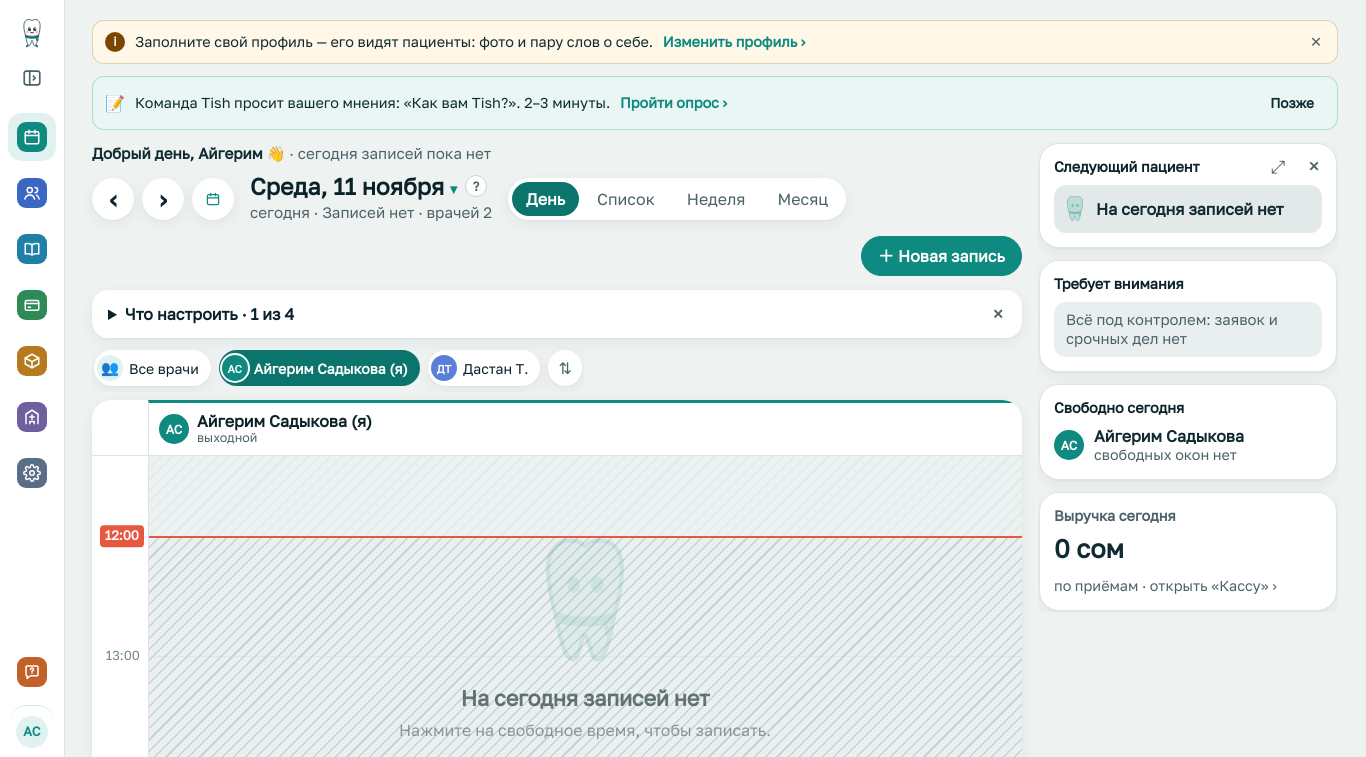
Test: приглашение над «Расписанием»: «Позже» прячет его, нажатие ведёт в опрос
(page scrolled)
Step 1. Click the button "Позже" → [1292, 103], box [1253,83,1331,123]
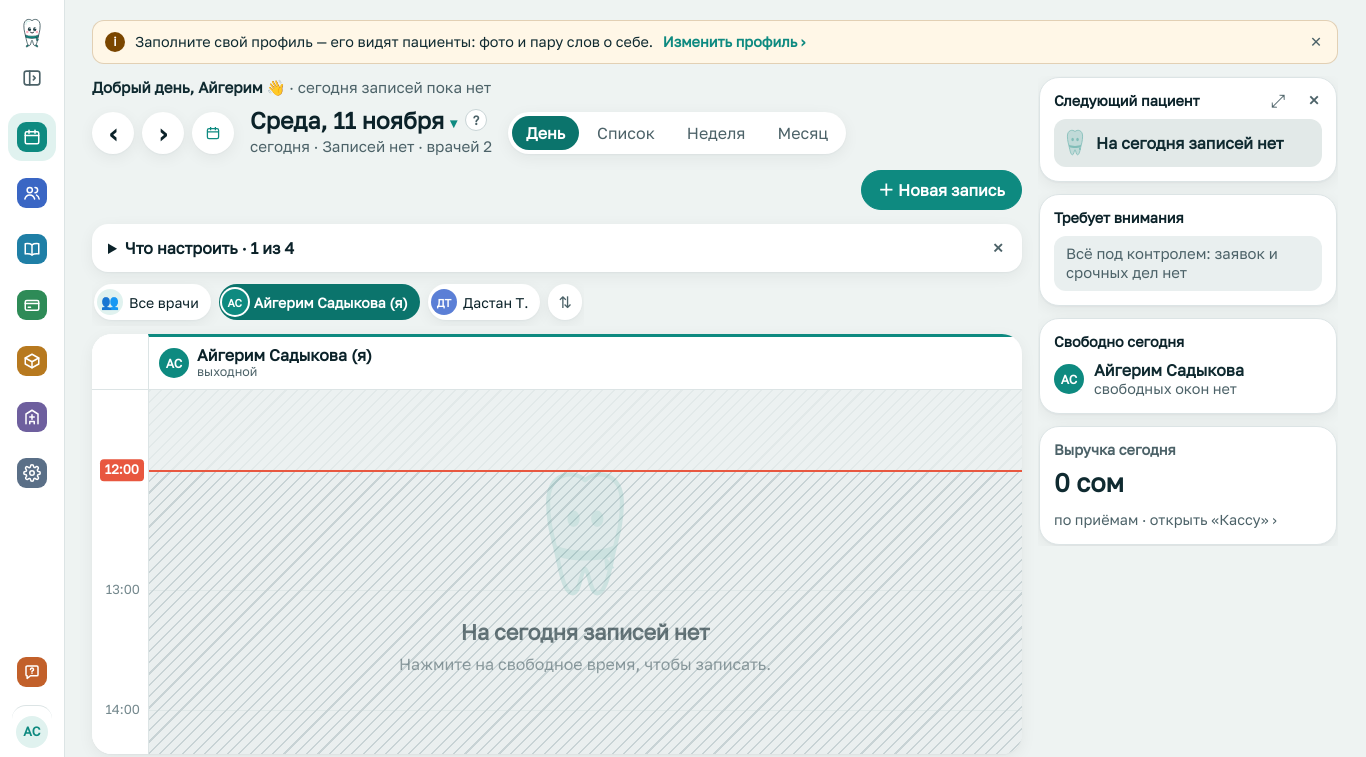
expect the button "Команда Tish просит вашего мнения: «Как вам Tish?»" is gone: met
